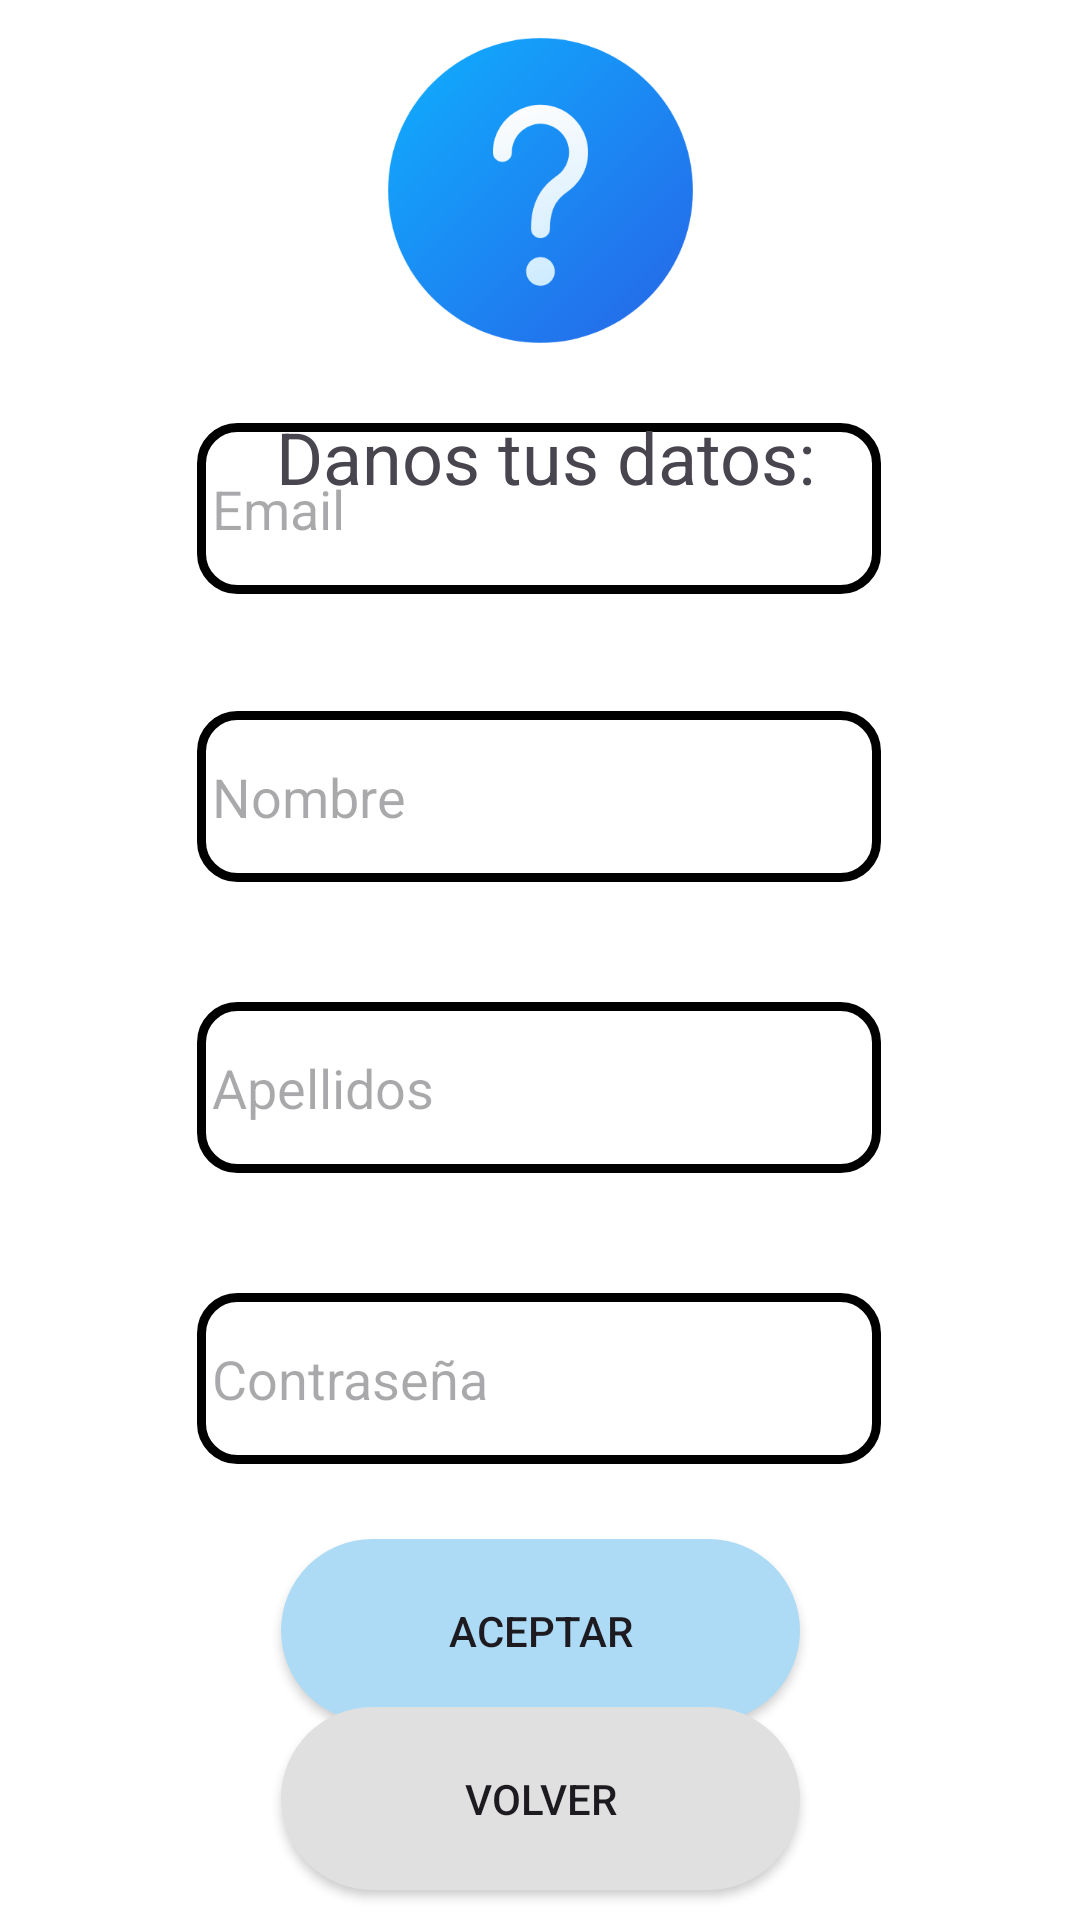

Named icons in this screenshot (1080x1920) and their centers, (x,y):
pregunta: (540,190)
